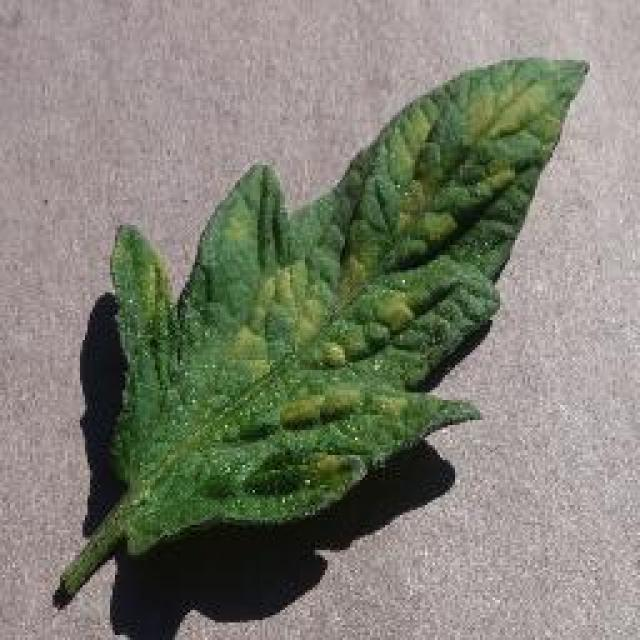Tomato mold leaf: (105, 56, 590, 559)
